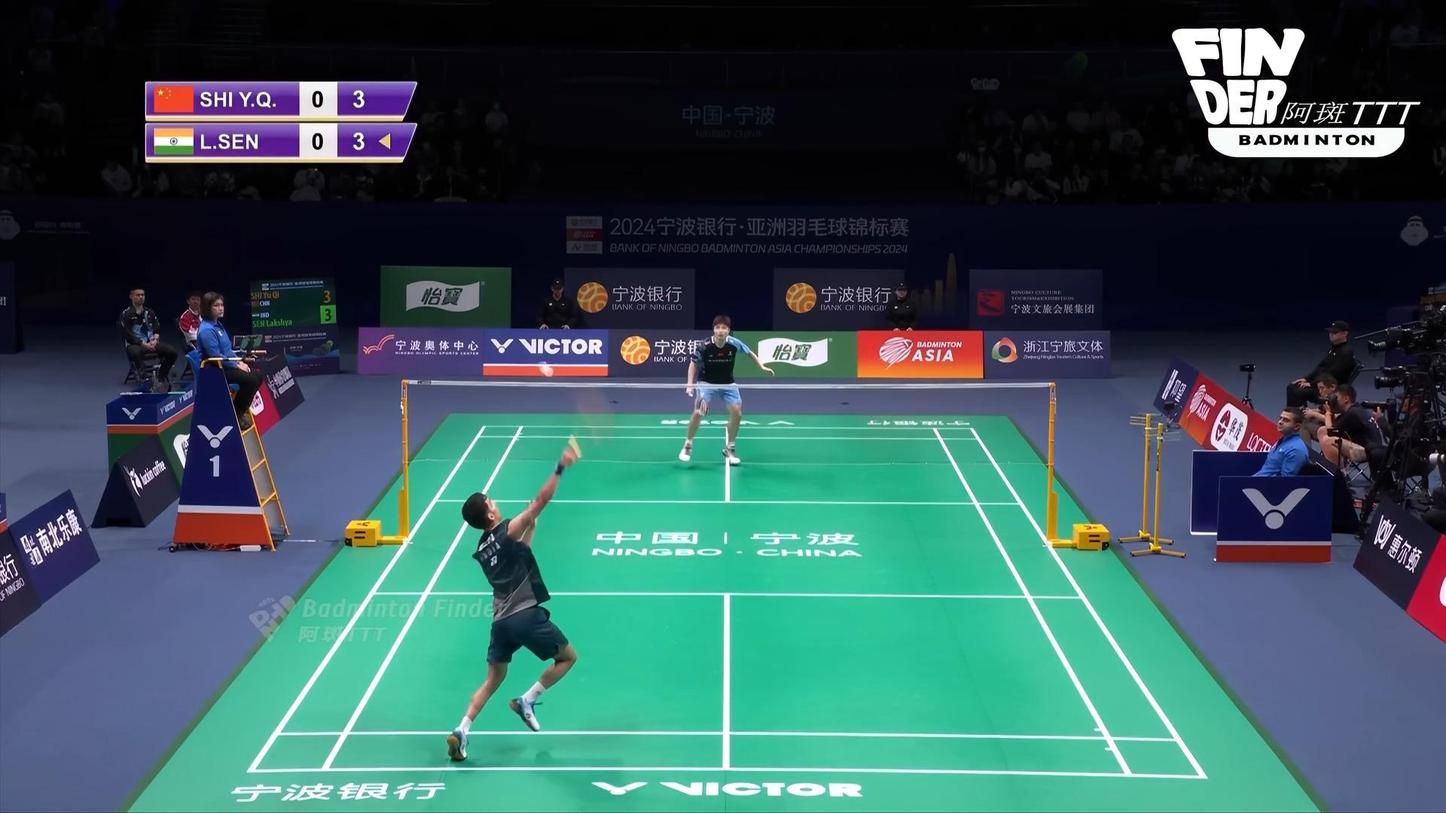shuttlecock: (538, 361, 553, 377)
